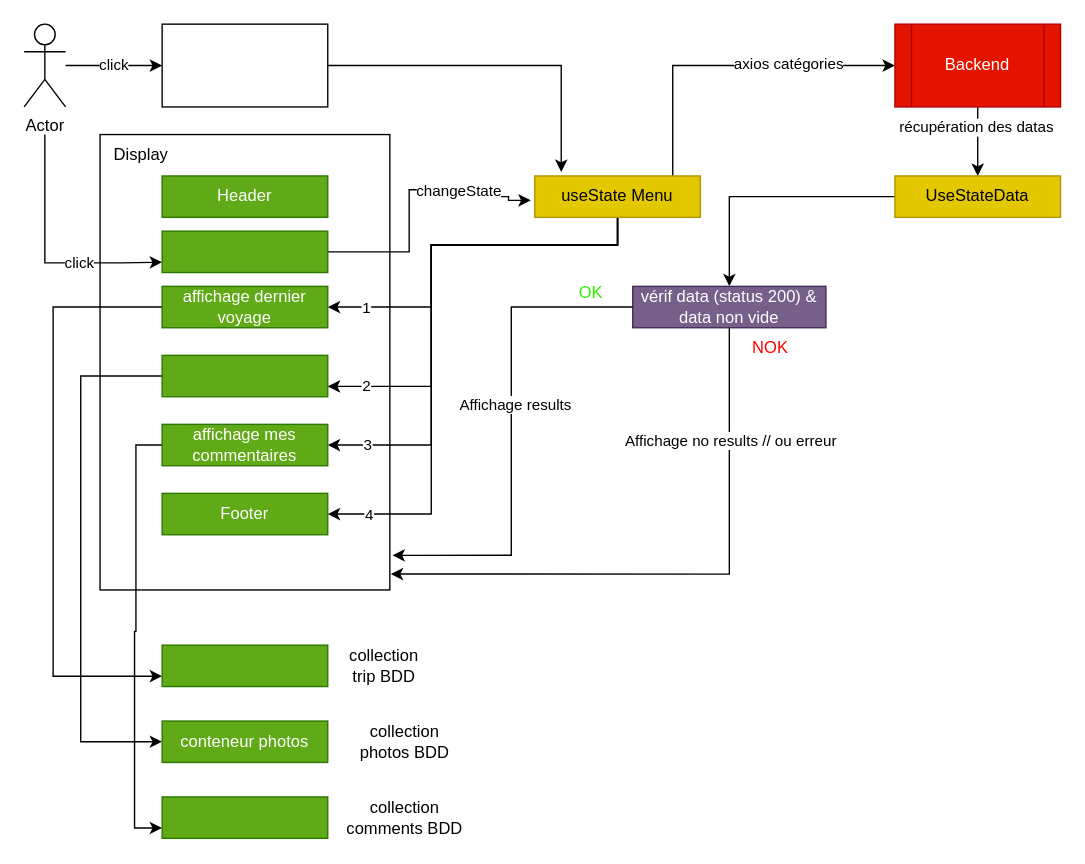
Some shapes in this 1085 by 864 pixel diagram are drawn without their labels. The centre of each missing label's shape, as x and y in pixels:
affichage mes photos: (x=244, y=375)
Bouton Profil: (x=244, y=65)
cards comment: (x=244, y=817)
Cards voyage: (x=244, y=665)
NavBar: (x=244, y=251)
